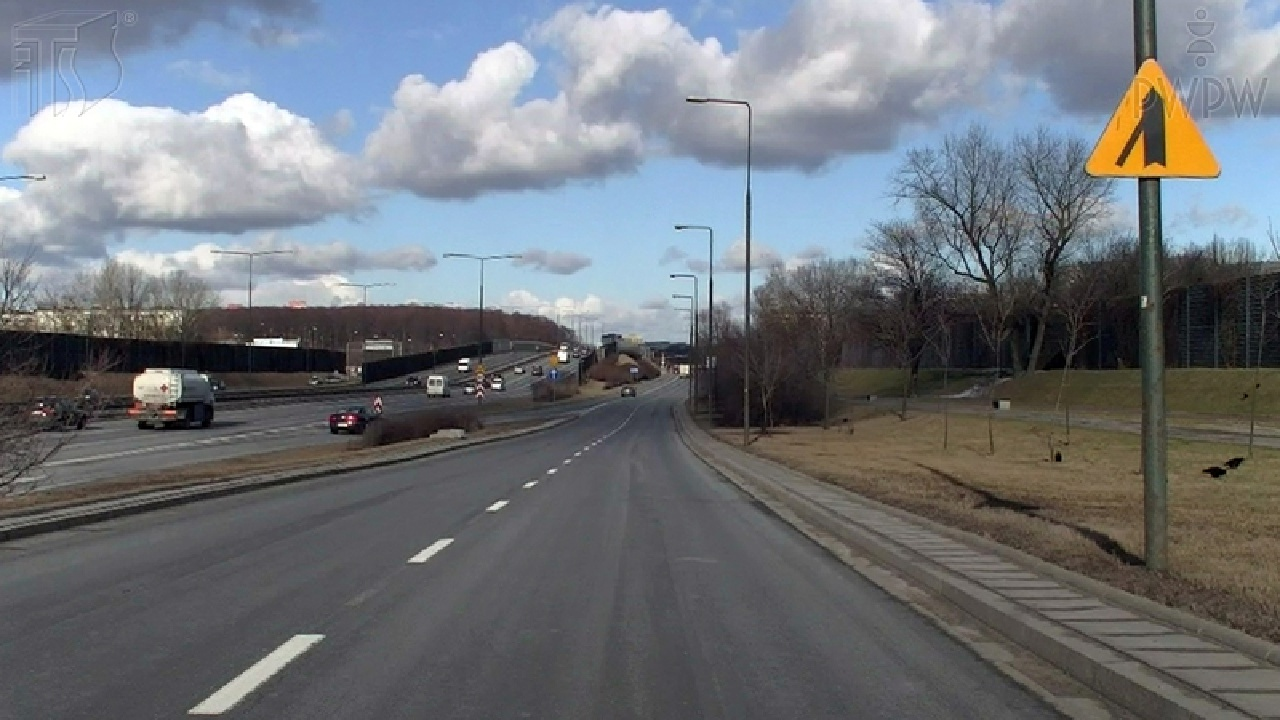A6e: (1066, 45, 1227, 183)
